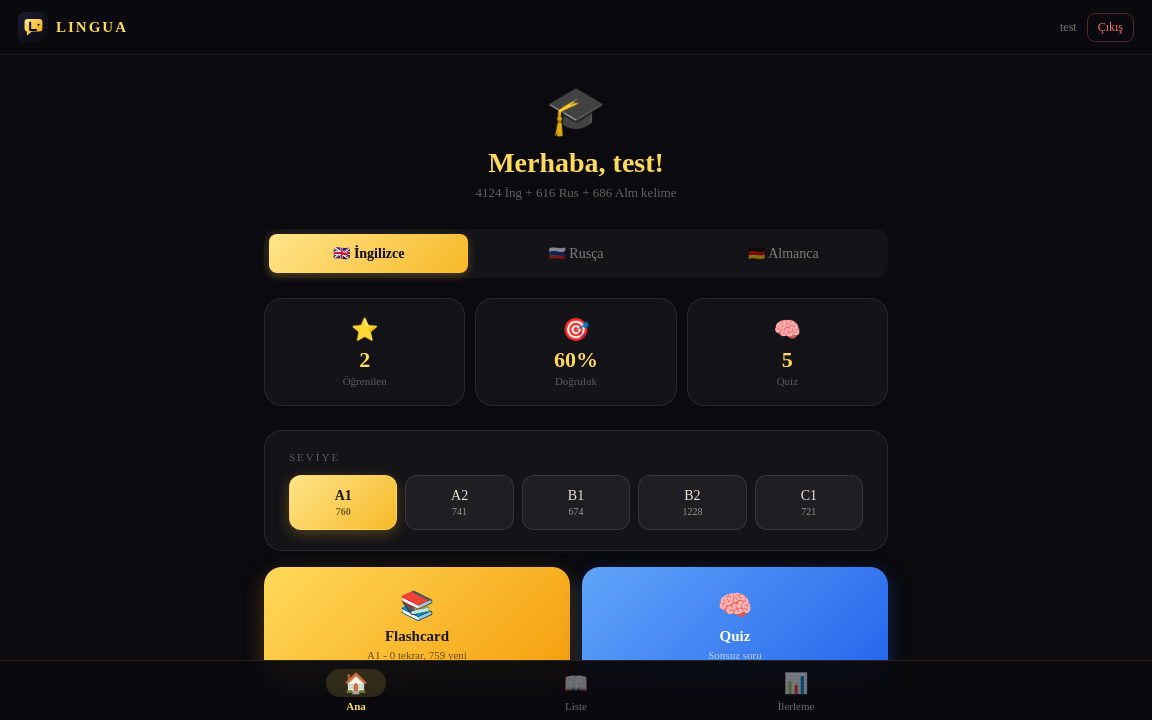
alt sekme çubuğu: İlerleme sekmesine geçilir, Flashcard'da gizlenir
Later steps or results of the test are not shown.
Expected: the navigation bar named "Ana menü" is shown, [0,660,1151,719]
What coordinates should you click on to do the following:
click the button "📊 İlerleme"
I would click on:
 (796, 690)
Its box is [686,661,906,719].
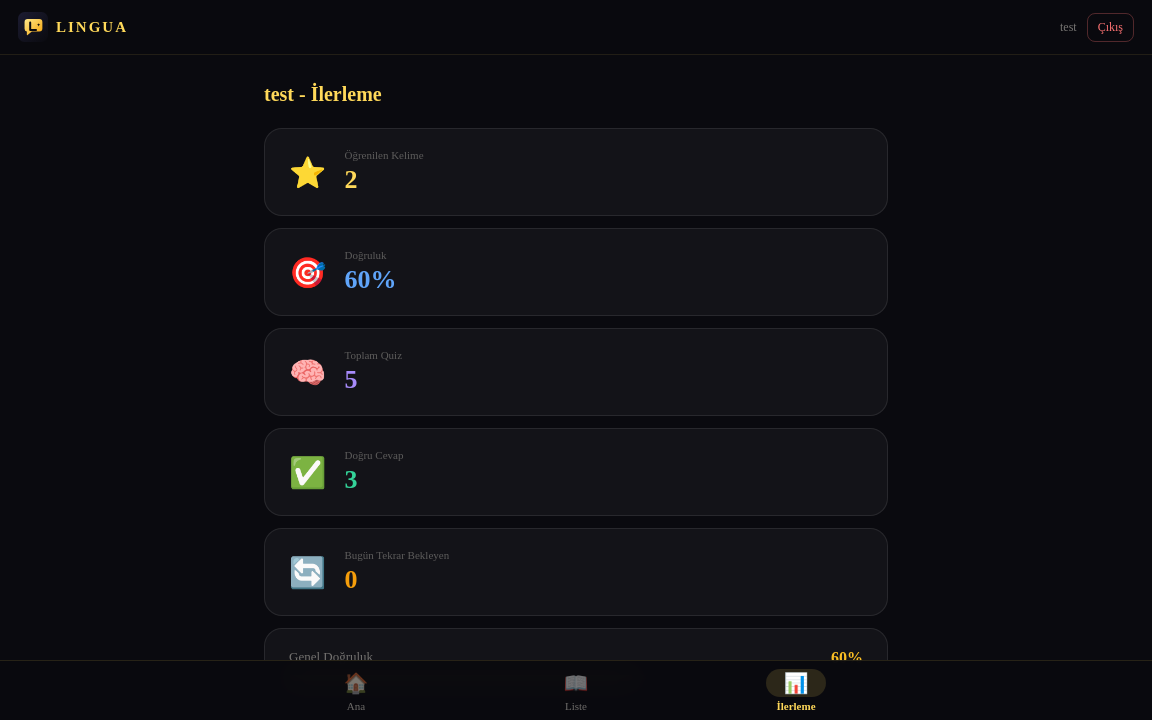
Now the button "📊 İlerleme" is marked as current, box [686,661,906,719]
